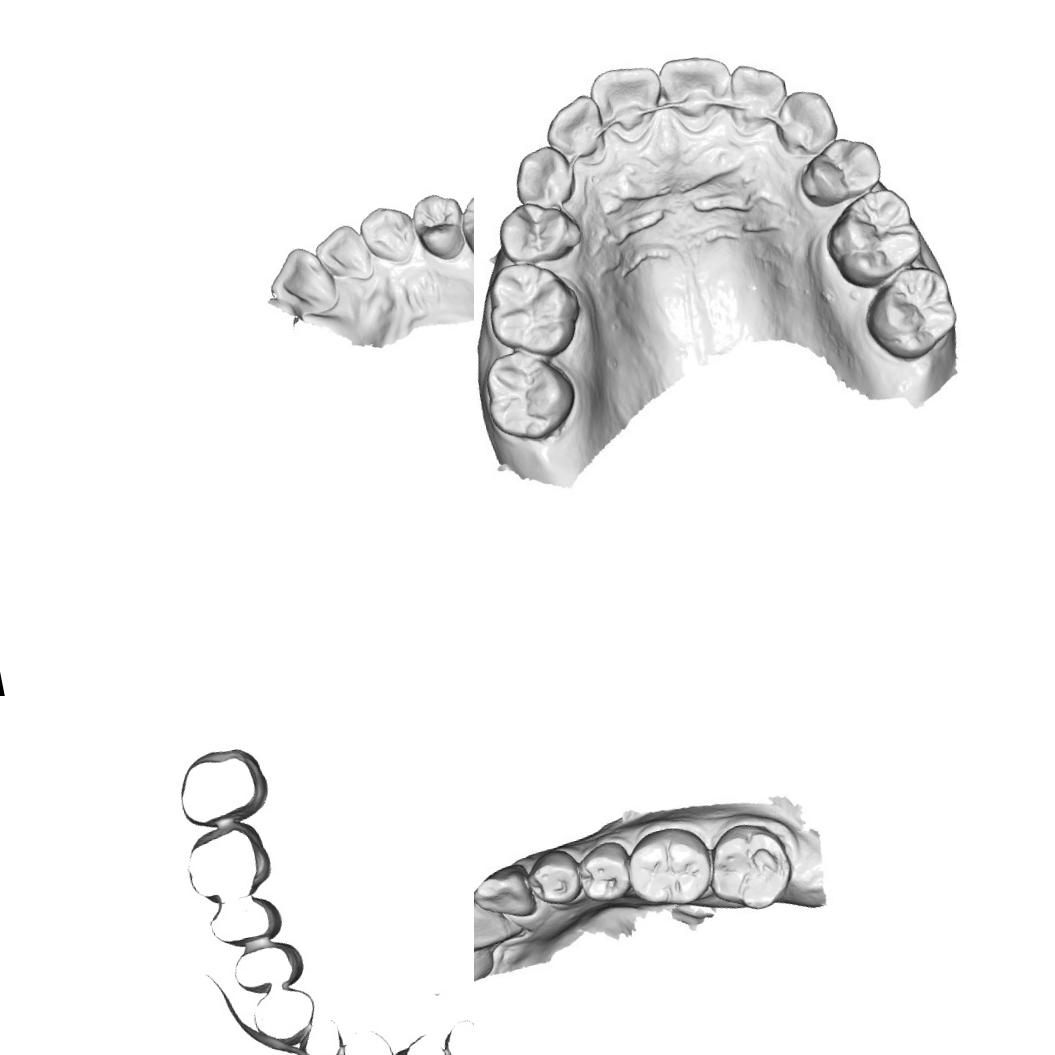canine: (354, 198, 422, 272), (506, 139, 578, 208), (772, 84, 839, 156), (474, 861, 539, 922)
incisor: (261, 239, 343, 323), (655, 50, 736, 122), (588, 60, 663, 128), (726, 56, 791, 130), (310, 218, 376, 288), (544, 95, 608, 165), (474, 892, 517, 956), (474, 938, 500, 995)
molar: (477, 251, 584, 358), (822, 187, 925, 294), (856, 263, 961, 359), (478, 345, 576, 442), (623, 820, 718, 915), (702, 821, 792, 911), (453, 181, 474, 278)
premolar: (492, 192, 586, 266), (797, 130, 880, 207), (408, 188, 470, 267), (576, 844, 634, 905), (525, 846, 578, 906)
